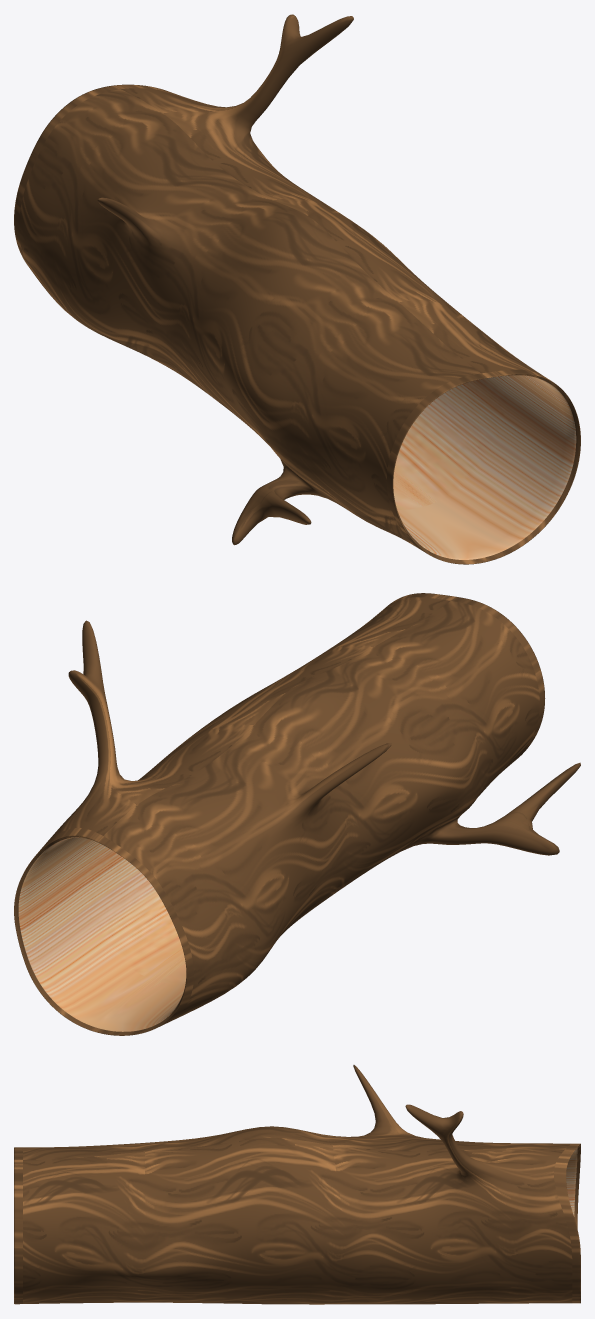
Rendered from Log.fbx.
3 views of the same model, one above another, from view 1: azimuth 30°, elevation 25°; view 2: azimuth 150°, elevation 25°; view 3: azimuth 270°, elevation 25° (orthographic). The views are drawn at different scales.
Visible parts, largest first — view 1: Log; view 2: Log; view 3: Log.
Boxes of the visible parts, bbox=[...] form: Log: bbox=[14, 14, 580, 564]; Log: bbox=[14, 593, 580, 1035]; Log: bbox=[14, 1065, 580, 1304].
Size of the model in its own units: 1410 by 1383 by 2975.
